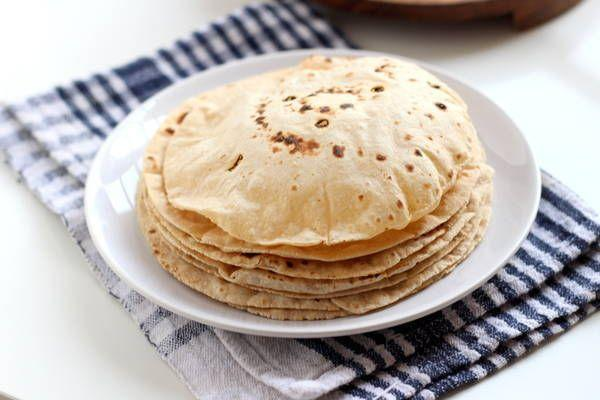roti phulka: (159, 76, 468, 289)
